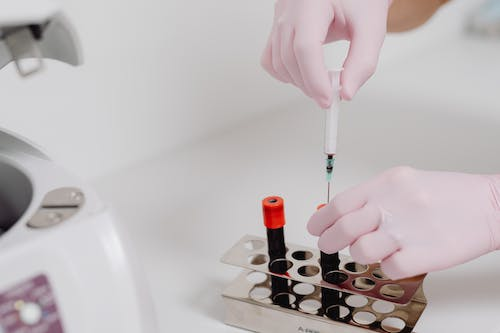blood: (264, 223, 290, 304), (319, 247, 341, 319), (325, 154, 334, 174)
